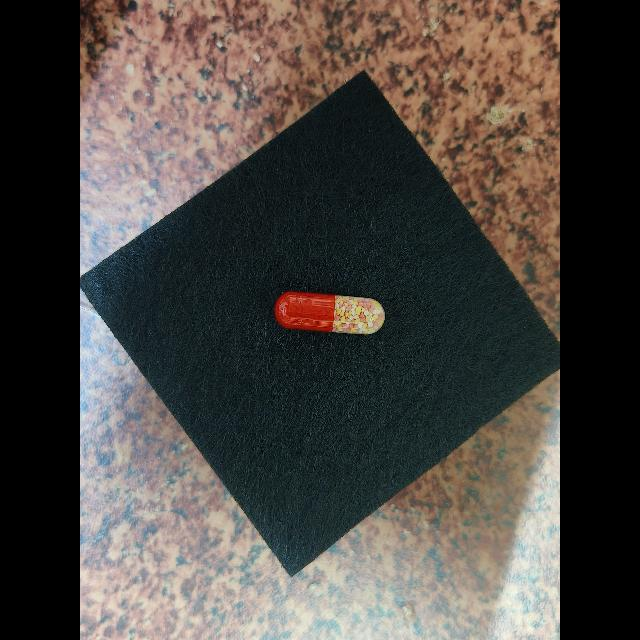Intact Capsule: (274, 291, 385, 335)
